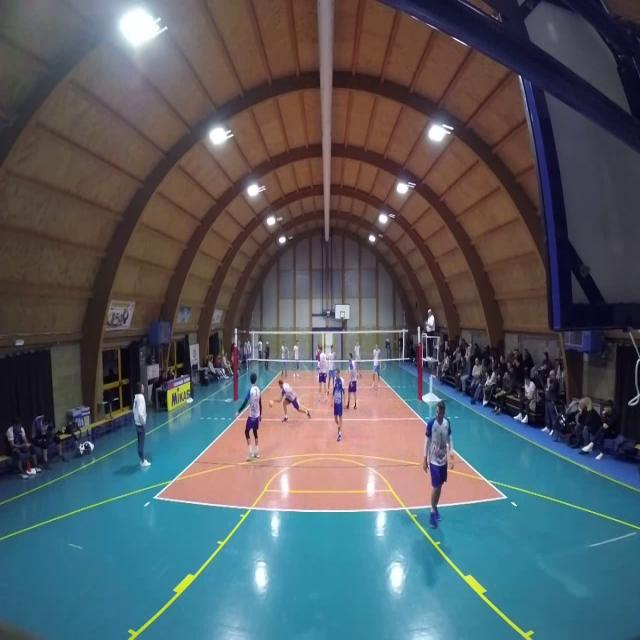serve: (421, 392, 456, 530), (267, 397, 275, 412)
